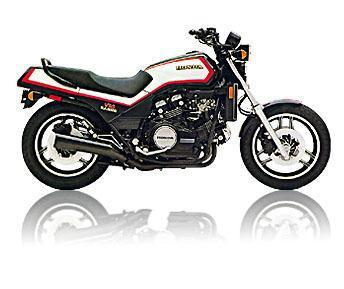motorcycle: (8, 22, 341, 201)
